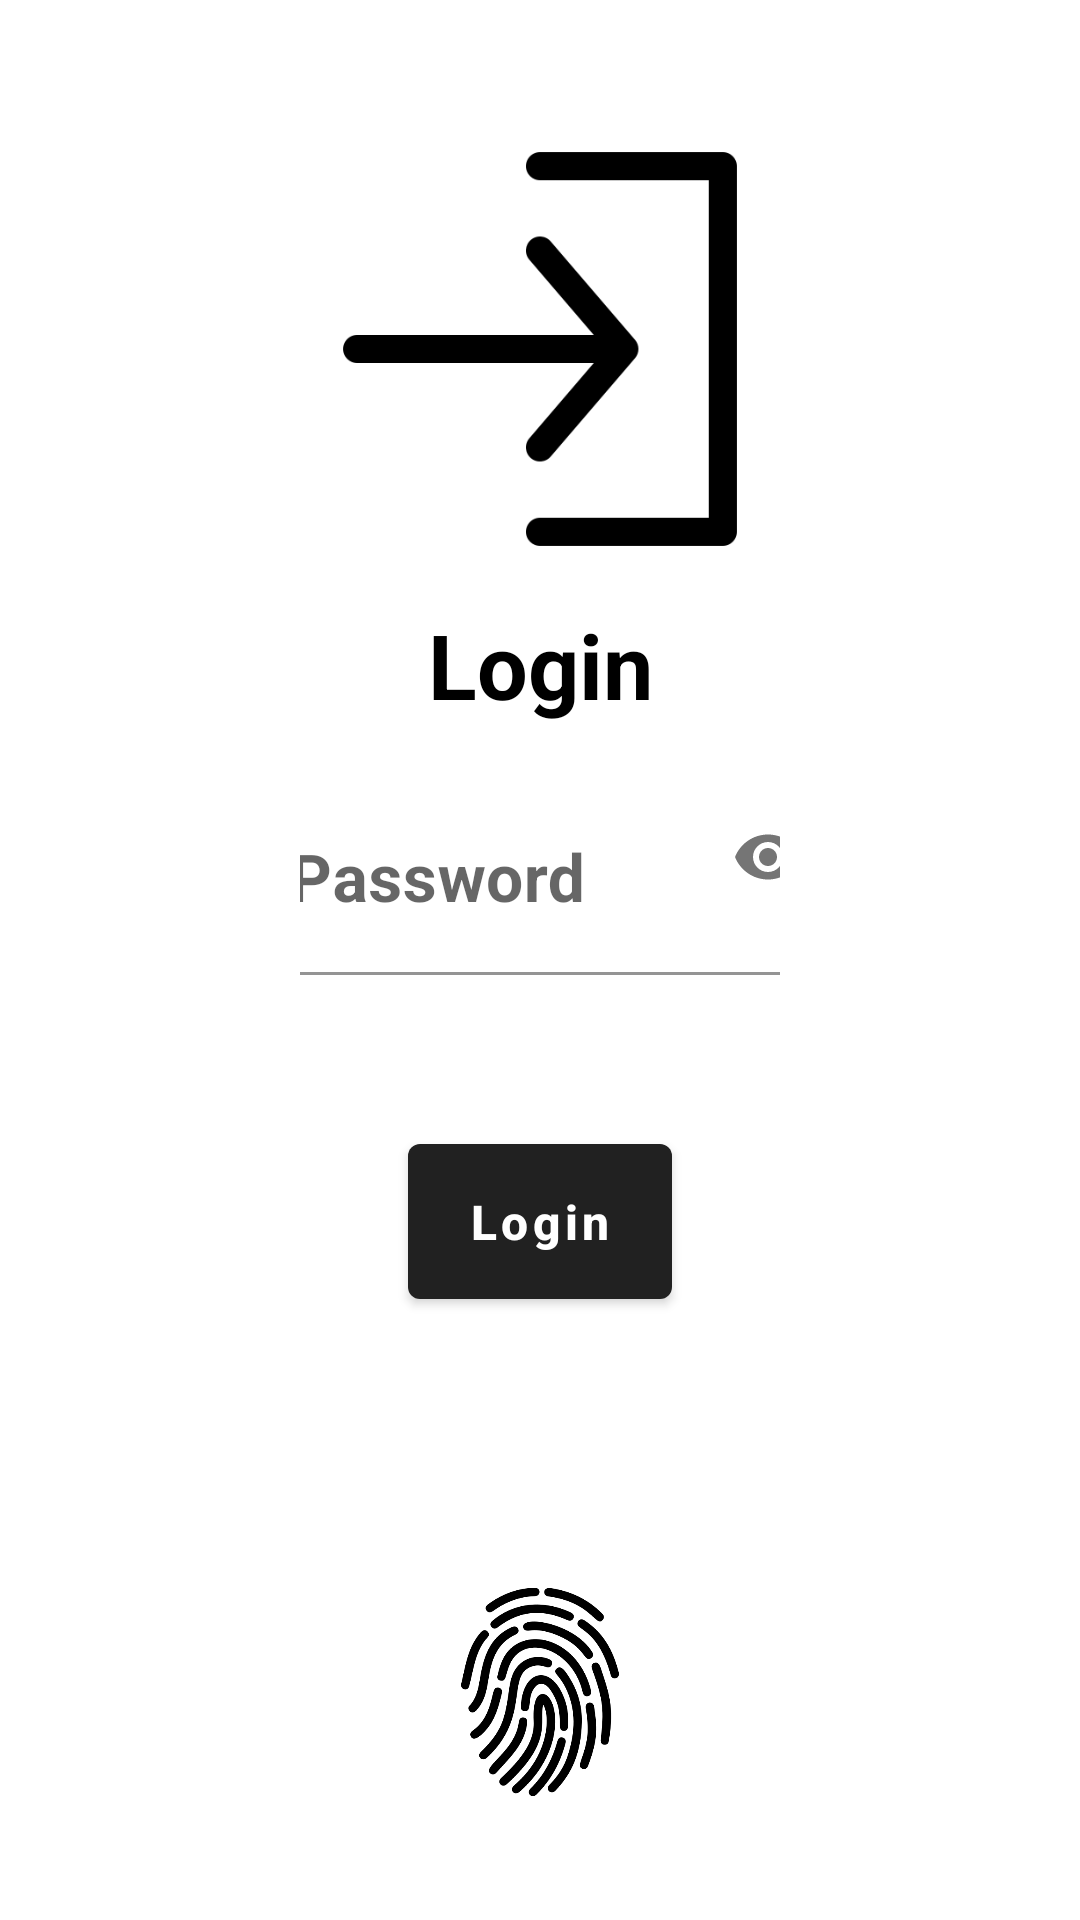

Named icons in this screenshot (1080 × 1920) and their bounding boxes, detection(x1, y1, x2, y2):
Fingerprint: detection(461, 1588, 619, 1796)
